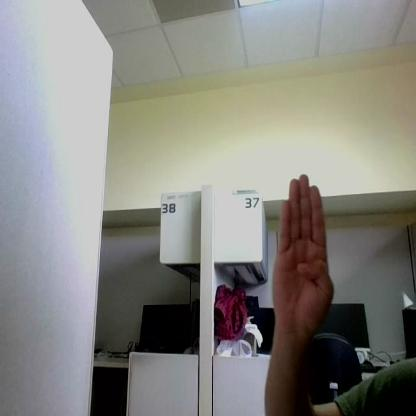B: (272, 175, 334, 329)
